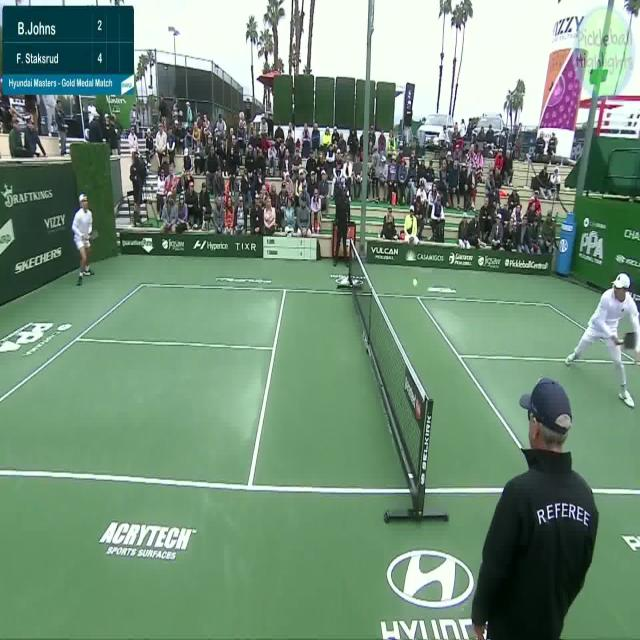ball: (411, 274, 419, 290)
